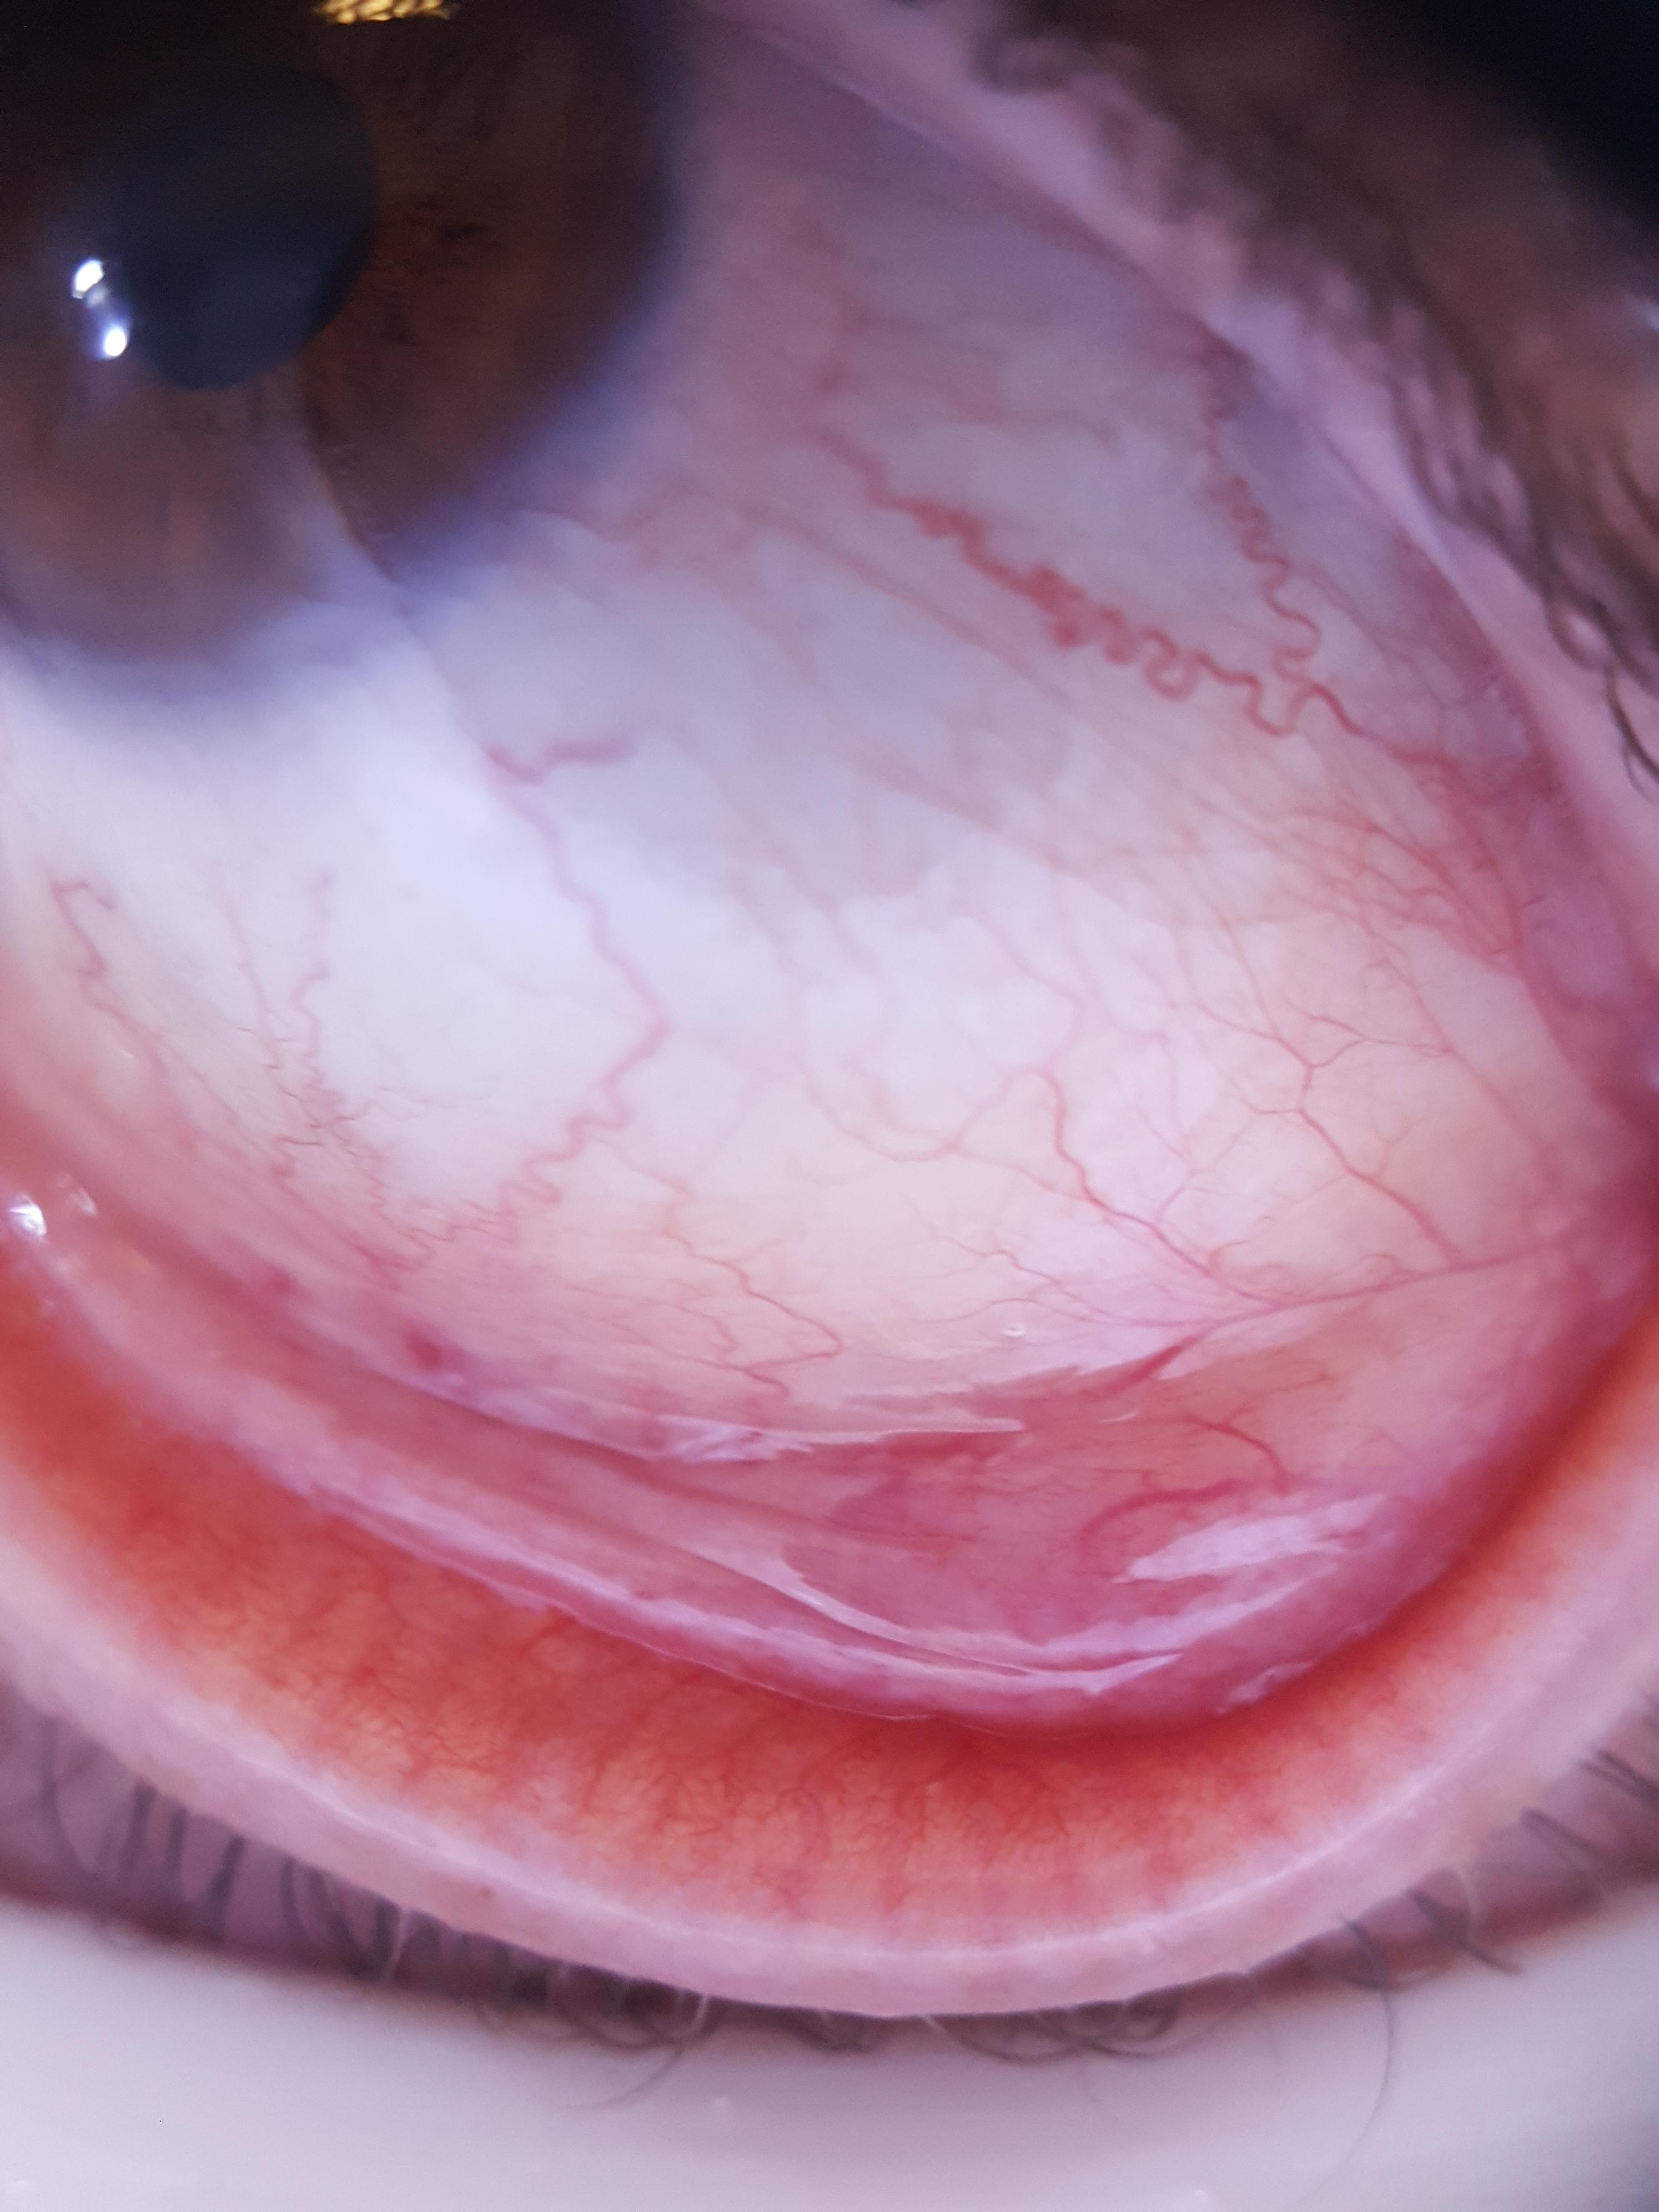forniceal: (0, 1116, 1628, 1726)
forniceal_palpebral: (5, 1104, 1638, 1904)
palpebral: (5, 1261, 1638, 1883)
